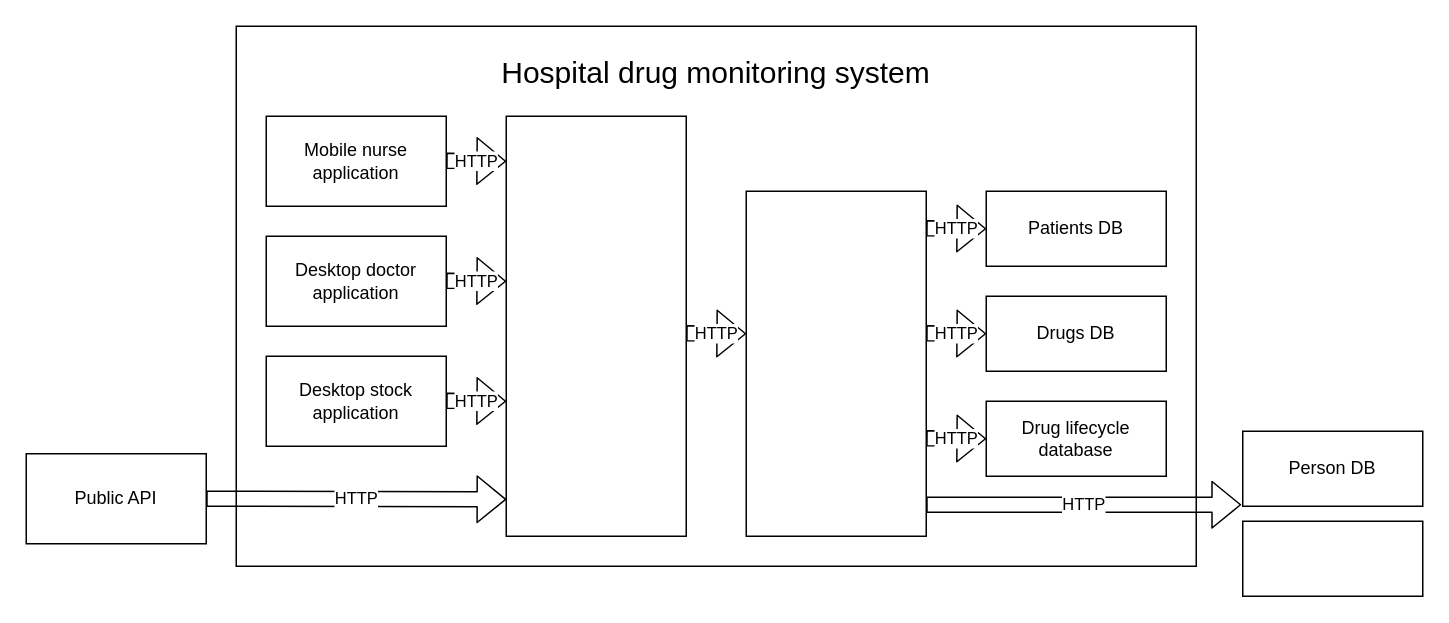
The diagram is 1449 pixels wide and 623 high, and some of its shapes have lost their labels. The shapes that lost their labels are listed below. From the top down, each one's box as (x1, y1, x2, y2) in pixels, then its label:
(505, 115, 686, 536): Public API gateway
(745, 190, 926, 536): Backend service
(1241, 520, 1423, 596): Department DB
